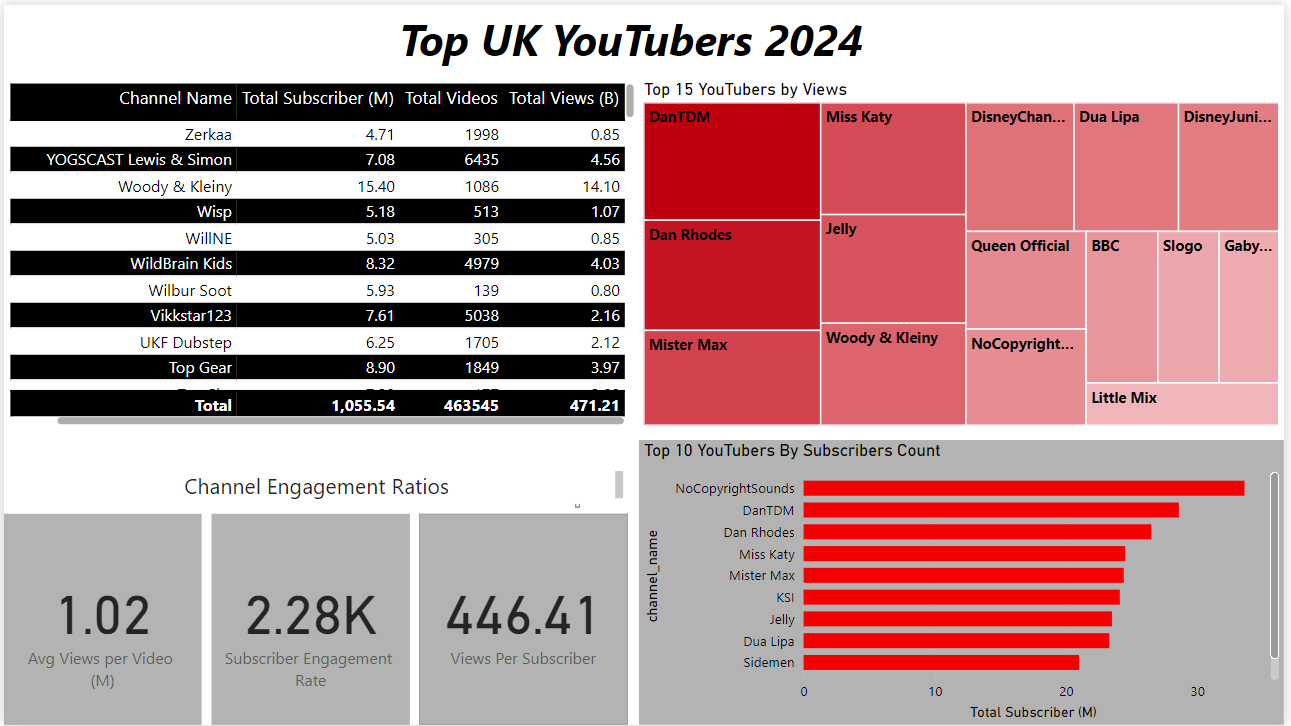

The dashboard page shown, as its layout file describes it:
{"tool":"powerbi","page":{"name":"Page 1","canvas":[1280,720],"ordinal":0},"visuals":[{"type":"textbox","box":[390,0,488.3,73.3],"z":0},{"type":"tableEx","fields":{"Values":["vw uk_youtubers_2024.channel_name","vw uk_youtubers_2024.Total Subscriber (M)","vw uk_youtubers_2024.Total Videos","vw uk_youtubers_2024.Total Views (B)"]},"box":[0,73.5,635.4,351.3],"z":1},{"type":"treemap","title":"Top 15 YouTubers by Views","fields":{"Group":["vw uk_youtubers_2024.channel_name"],"Values":["vw uk_youtubers_2024.Total Views (B)"]},"box":[635,73.3,645,351.7],"z":2},{"type":"card","fields":{"Values":["vw uk_youtubers_2024.Avg Views per Video (M)"]},"box":[0,508.8,197.5,211.2],"z":3},{"type":"card","fields":{"Values":["vw uk_youtubers_2024.Subscriber Engagement Rate"]},"box":[207.5,508.8,198.8,211.2],"z":4},{"type":"card","fields":{"Values":["vw uk_youtubers_2024.Views Per Subscriber"]},"box":[415,508.8,208.8,211.2],"z":5},{"type":"barChart","title":"Top 10 YouTubers By Subscribers Count","fields":{"Category":["vw uk_youtubers_2024.channel_name"],"Y":["vw uk_youtubers_2024.Total Subscriber (M)"]},"box":[635,435,645,285],"z":6},{"type":"textbox","box":[8.6,461.5,615.8,37.9],"z":7}]}

Visuals, with their boxes in screenshot pixels (x1, y1, x2, y2), scaled from the page's 1280x720 canvas onto the 1291x726 screenshot:
textbox: x1=393, y1=0, x2=886, y2=74
tableEx - vw uk_youtubers_2024.channel_name x vw uk_youtubers_2024.Total Subscriber (M): x1=0, y1=74, x2=641, y2=428
"Top 15 YouTubers by Views" treemap: x1=640, y1=74, x2=1290, y2=429
card - vw uk_youtubers_2024.Avg Views per Video (M): x1=0, y1=513, x2=199, y2=725
card - vw uk_youtubers_2024.Subscriber Engagement Rate: x1=209, y1=513, x2=410, y2=725
card - vw uk_youtubers_2024.Views Per Subscriber: x1=419, y1=513, x2=629, y2=725
"Top 10 YouTubers By Subscribers Count" barChart: x1=640, y1=439, x2=1290, y2=725
textbox: x1=9, y1=465, x2=630, y2=504
